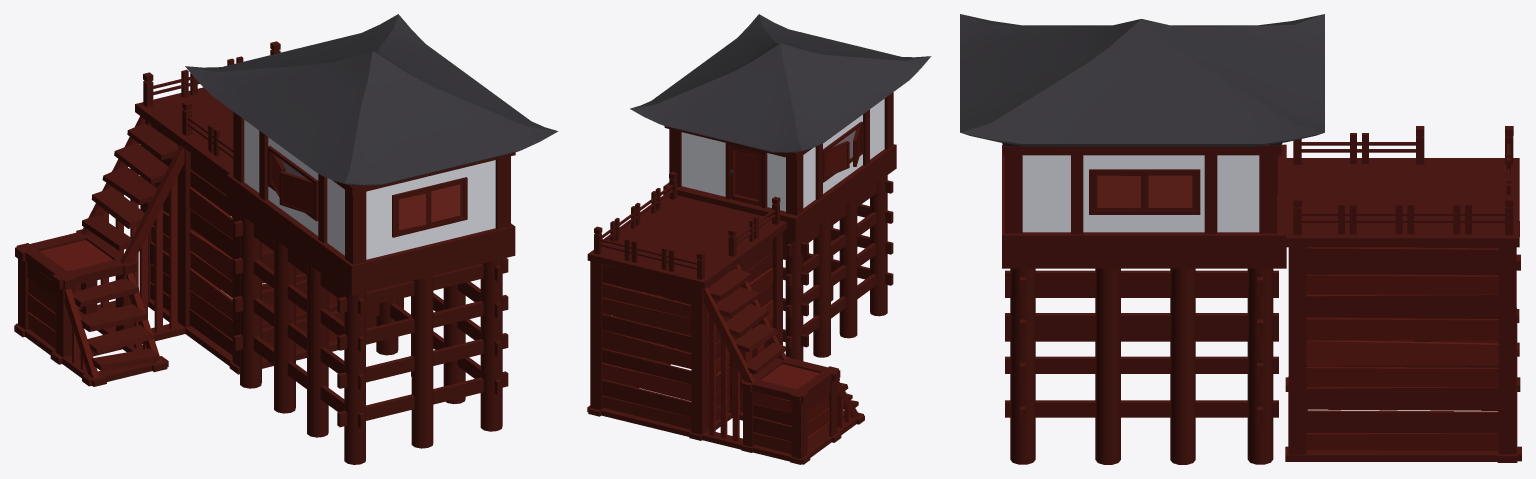
Rendered from houme019.fbx.
The picture shows the model from 3 angles, left to right: view 1: azimuth 30°, elevation 25°; view 2: azimuth 150°, elevation 25°; view 3: azimuth 270°, elevation 25°; orthographic projection. The views are drawn at different scales.
Parts seen in each view (by area): view 1: houme_19, stairs_19_1, high_base_of_the_house_19_1; view 2: stairs_19_1, houme_19, high_base_of_the_house_19_1; view 3: houme_19, stairs_19_1, high_base_of_the_house_19_1.
Part boxes in pixels (<box>): houme_19: <box>185,14,558,295</box>; stairs_19_1: <box>14,41,376,386</box>; high_base_of_the_house_19_1: <box>233,214,508,464</box>; stairs_19_1: <box>587,171,864,464</box>; houme_19: <box>630,14,931,242</box>; high_base_of_the_house_19_1: <box>783,175,893,360</box>; houme_19: <box>960,14,1324,268</box>; stairs_19_1: <box>1285,126,1521,462</box>; high_base_of_the_house_19_1: <box>1005,268,1278,464</box>.
Size of the model in its own units: 886 by 998 by 1258.
